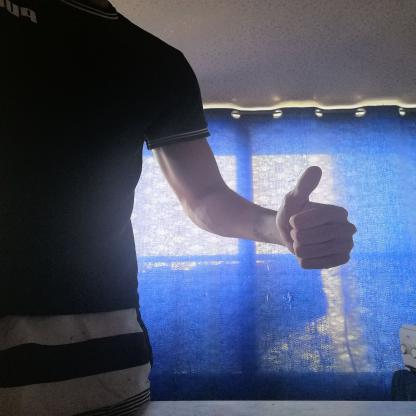ALIF: (262, 156, 380, 281)
